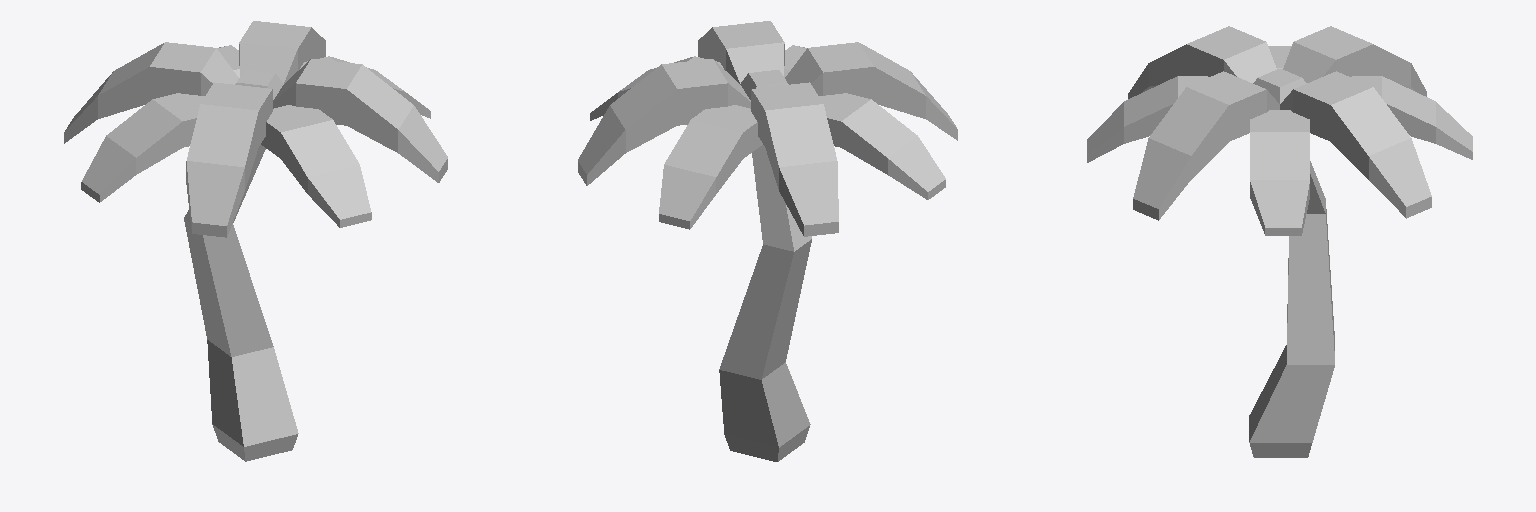
The model's file is palm_detailed_short.obj.
3 renders of one model, left to right at view 1: azimuth 30°, elevation 25°; view 2: azimuth 150°, elevation 25°; view 3: azimuth 270°, elevation 25°, orthographic.
Visible parts, largest first — view 1: Group 20, Group 18; view 2: Group 20, Group 18; view 3: Group 20, Group 18.
Part boxes in pixels (bbox=[...]): Group 20: bbox=[64, 21, 447, 237]; Group 18: bbox=[184, 145, 298, 461]; Group 20: bbox=[578, 21, 957, 236]; Group 18: bbox=[719, 145, 811, 461]; Group 20: bbox=[1087, 26, 1472, 235]; Group 18: bbox=[1249, 161, 1334, 457].
Bounding box in the file's own units: 15.44 × 16.79 × 15.44.